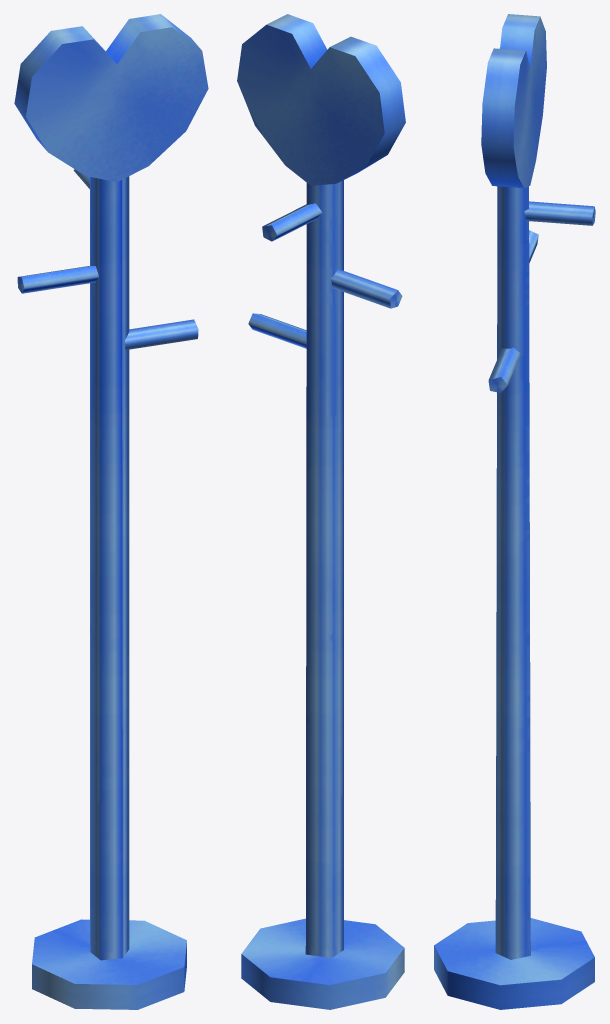
File: furni_0200136_03.FBX
The picture shows the model from 3 angles, left to right: view 1: azimuth 30°, elevation 25°; view 2: azimuth 150°, elevation 25°; view 3: azimuth 270°, elevation 25°; orthographic projection.
Visible parts, largest first — view 1: furni_0200136_03; view 2: furni_0200136_03; view 3: furni_0200136_03.
Part boxes in pixels (left/top/right/bottom): furni_0200136_03: left=14, top=14, right=208, bottom=1009; furni_0200136_03: left=237, top=14, right=405, bottom=1009; furni_0200136_03: left=434, top=14, right=595, bottom=1009.
Size of the model in its own units: 23.96 by 127 by 19.85.
